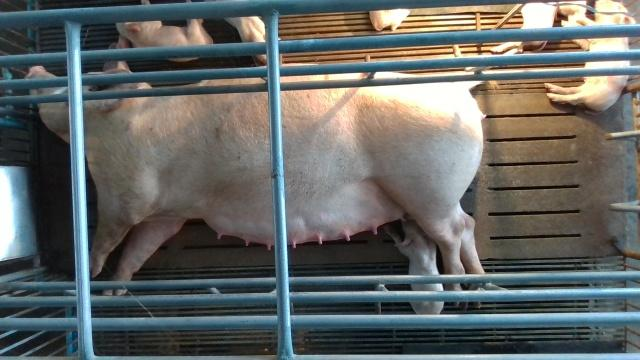piglet: (545, 0, 635, 111), (115, 0, 214, 62), (383, 215, 444, 314), (492, 3, 559, 55), (227, 17, 282, 66)
sow-sleep-lactate: (26, 37, 501, 308)
